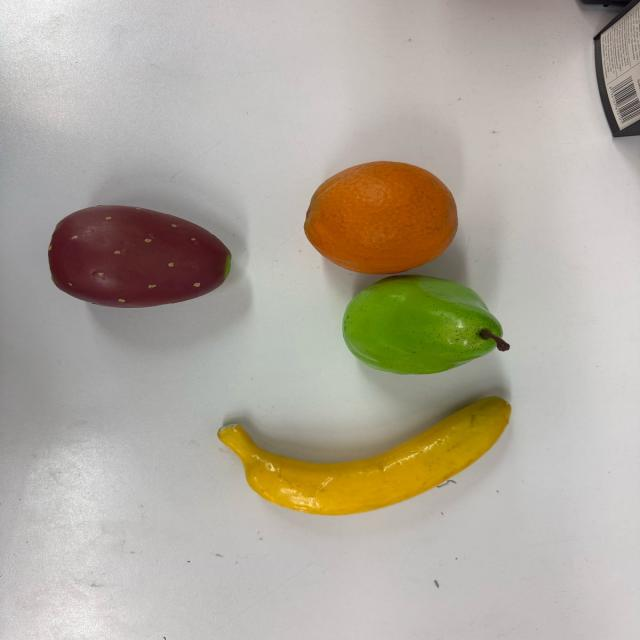banana: (218, 398, 513, 516)
orange: (304, 162, 461, 272)
pear: (341, 274, 511, 376)
tuna: (47, 205, 232, 307)
